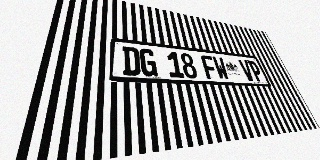1: (166, 51, 185, 78)
8: (179, 53, 198, 79)
D: (122, 46, 141, 76)
F: (200, 55, 219, 80)
G: (139, 48, 158, 77)
P: (247, 60, 265, 82)
V: (238, 59, 256, 81)
W: (212, 56, 230, 80)
